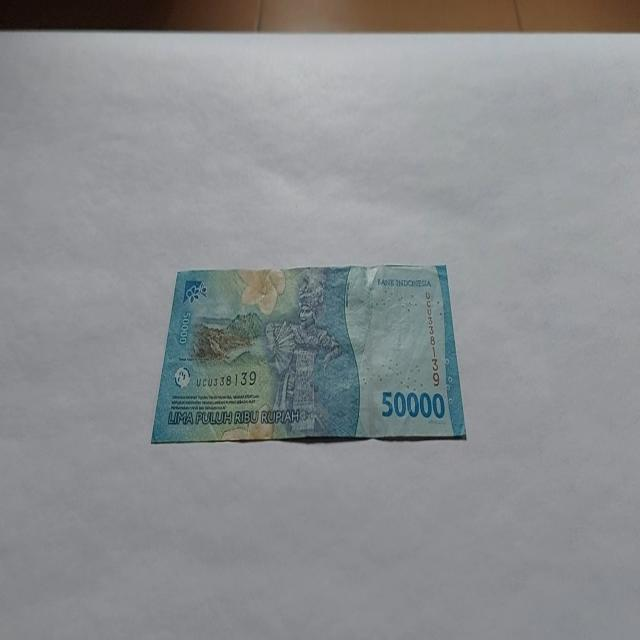lima puluh ribu rupiah: (149, 262, 467, 446)
